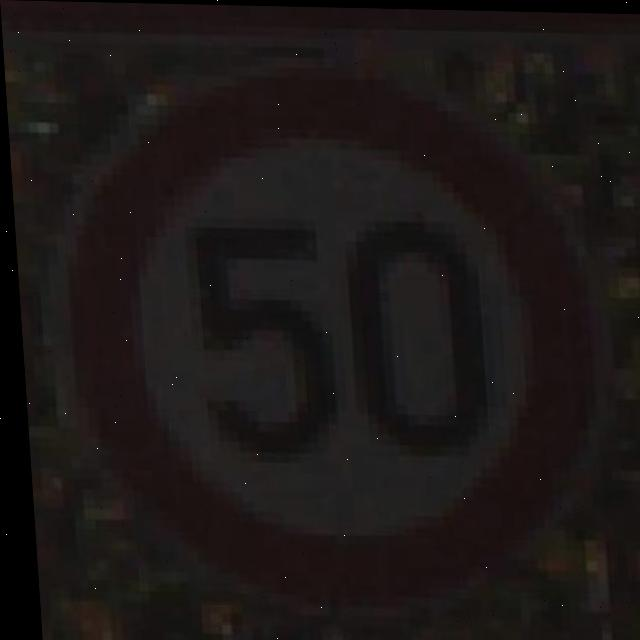Speed limit 50: (49, 59, 612, 603)
